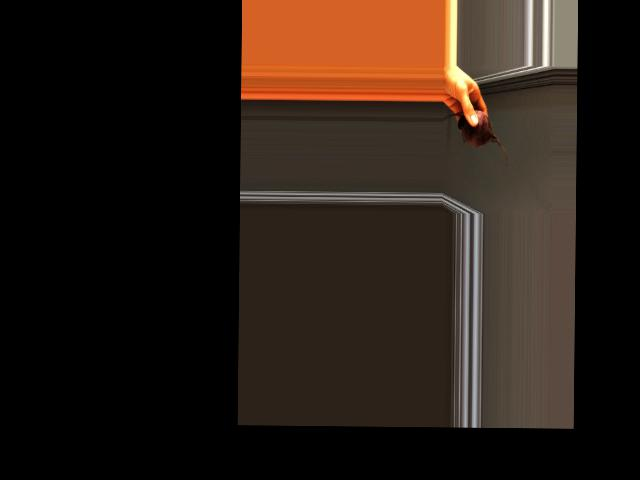beet: (441, 110, 508, 166)
